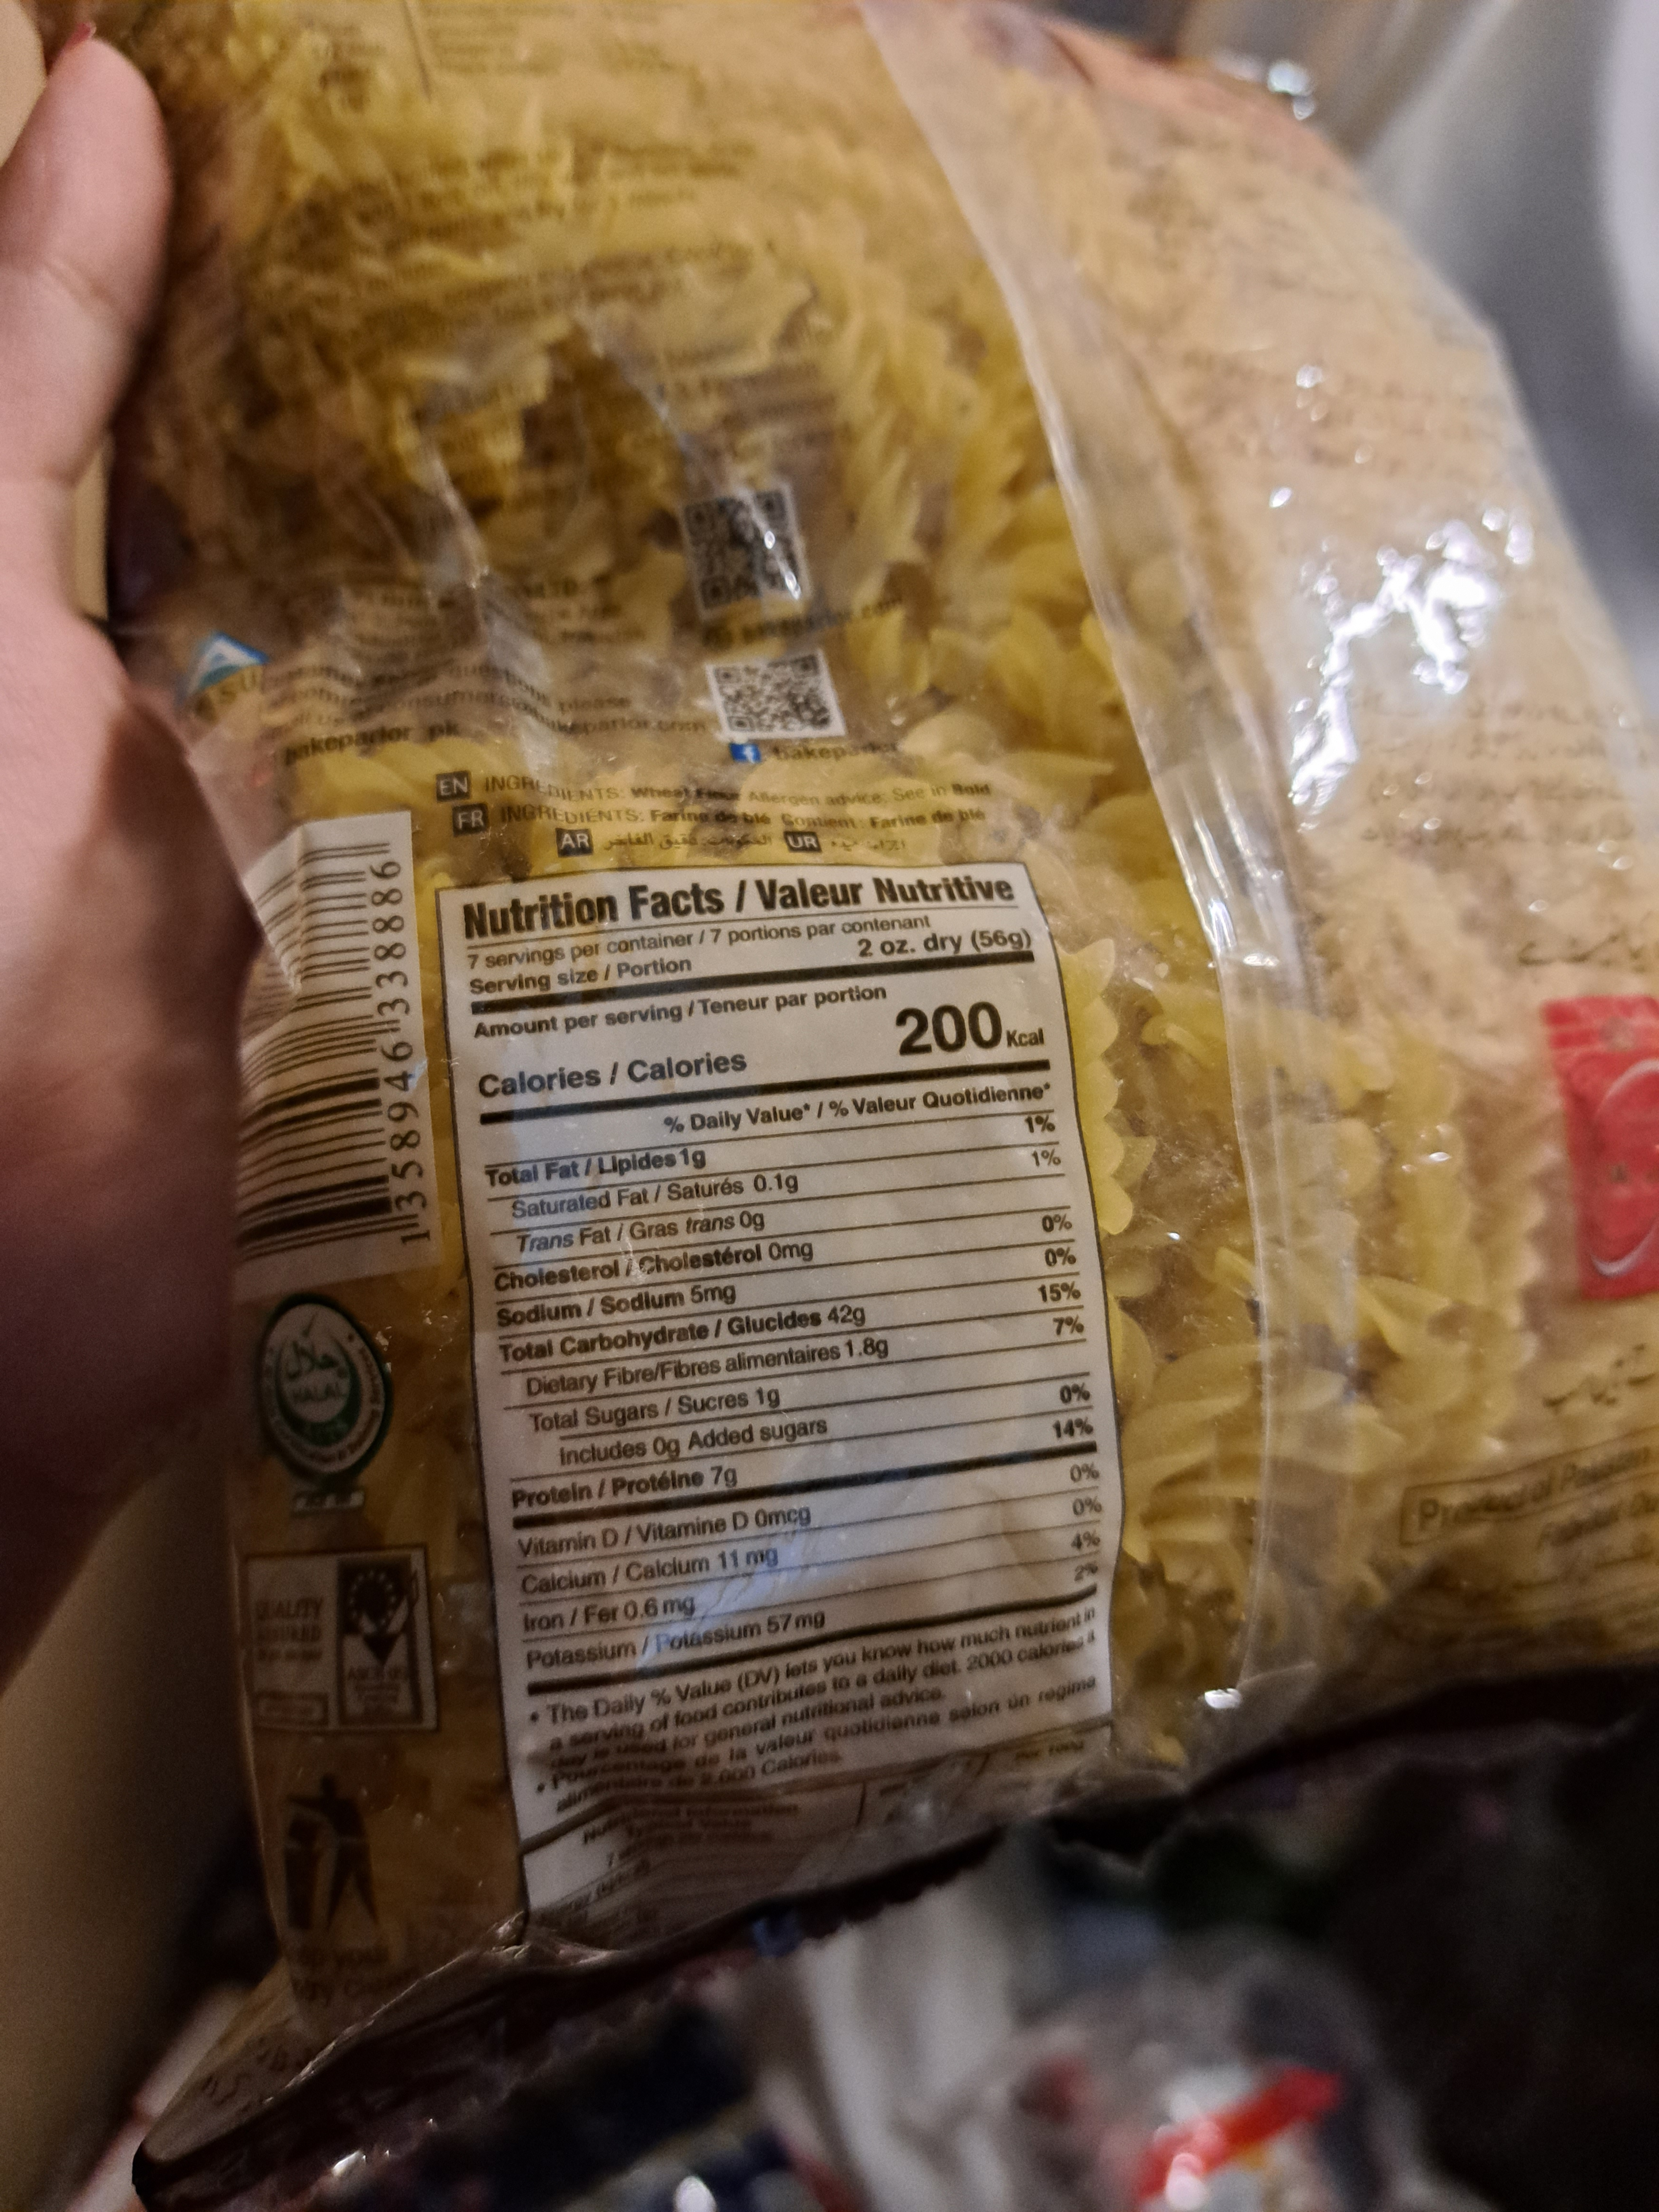table: (422, 869, 1145, 1733)
